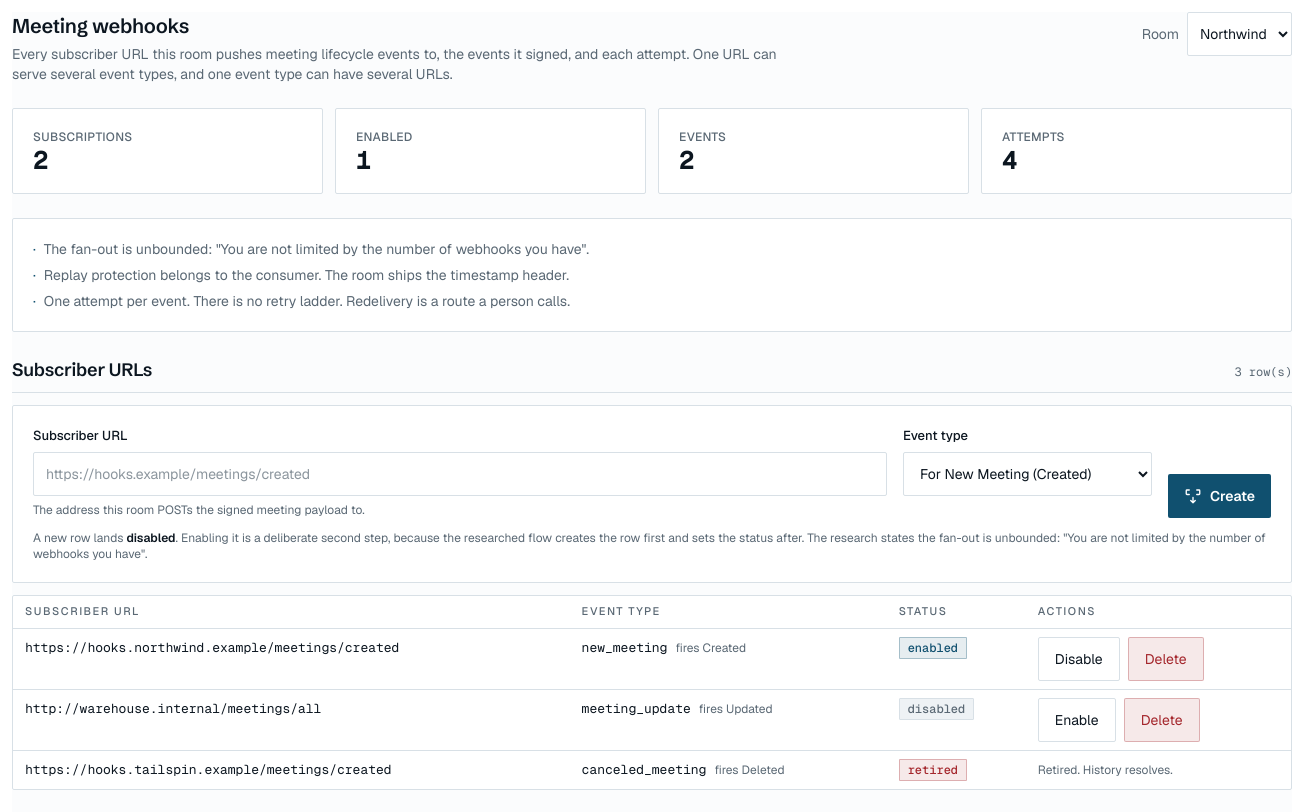
Test: WF-066 meeting webhook page › refuses a URL this deployment will not accept before the server does
The width and height of the screenshot is (1304, 812).
expect the heading "Meeting webhooks" is shown: met, box [12,13,189,38]
expect the heading "Subscriber URLs" is shown: met, box [12,356,152,384]
Step 1. Type "ws://hooks.example/created" into the field labelled "Subscriber URL" → (460, 474), box [33,452,887,496]
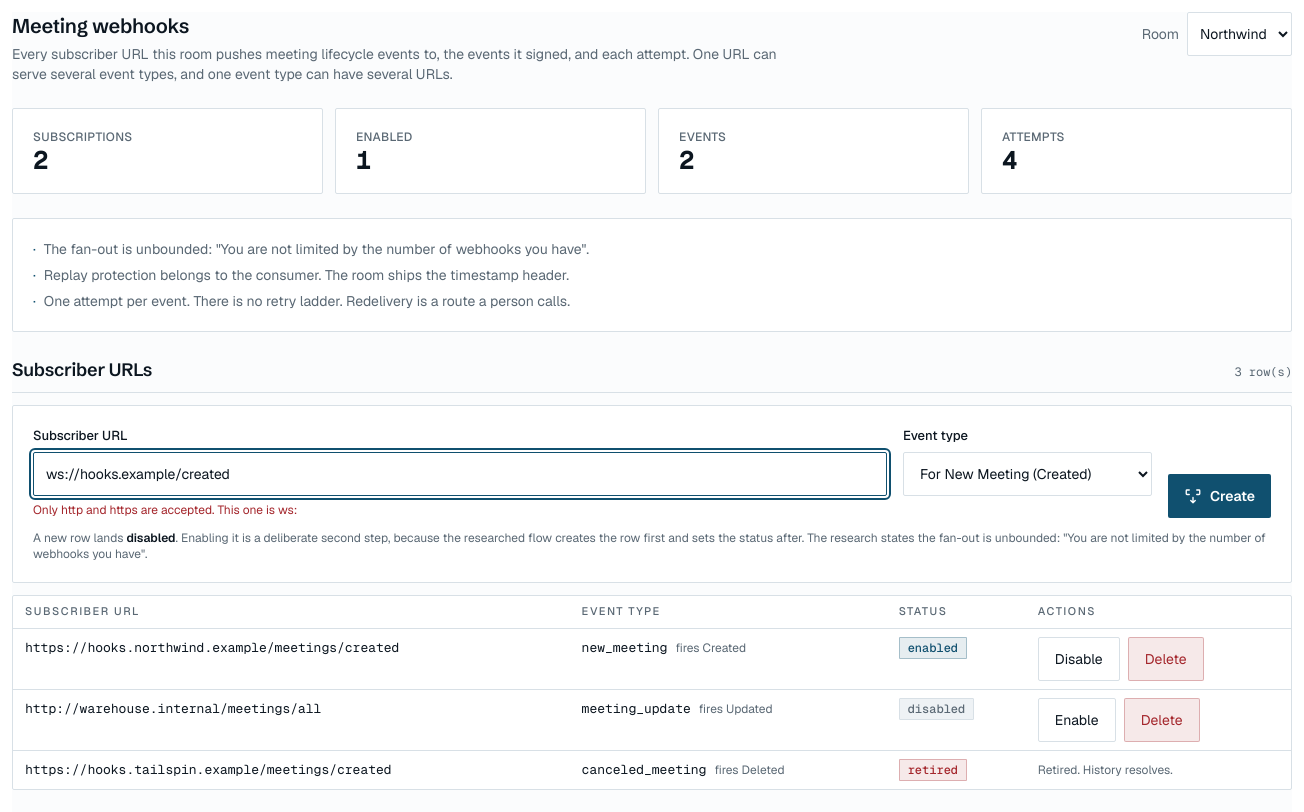
Step 2. Click the button "Create" → (1220, 496), box [1168,474,1271,518]
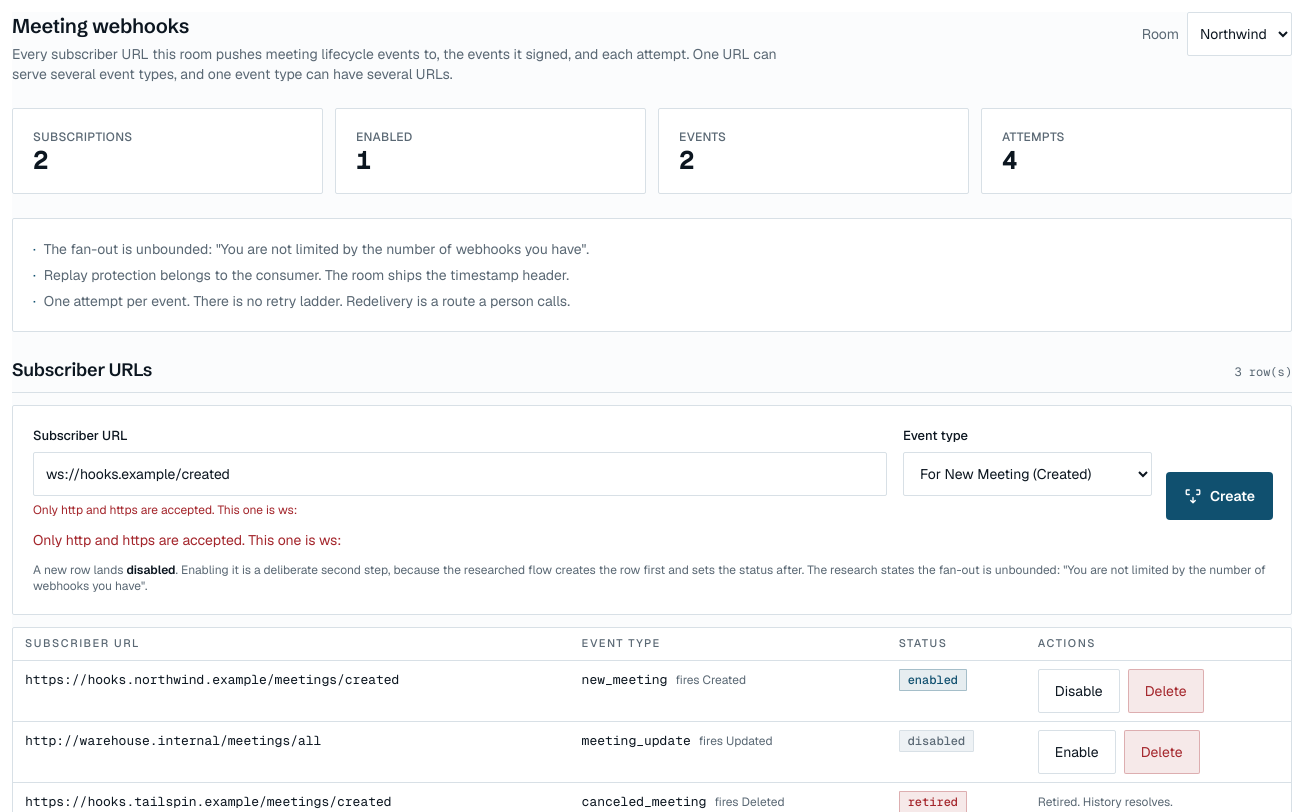
expect the message shows "Only http and https are accepted": met, box [33,531,342,549]
